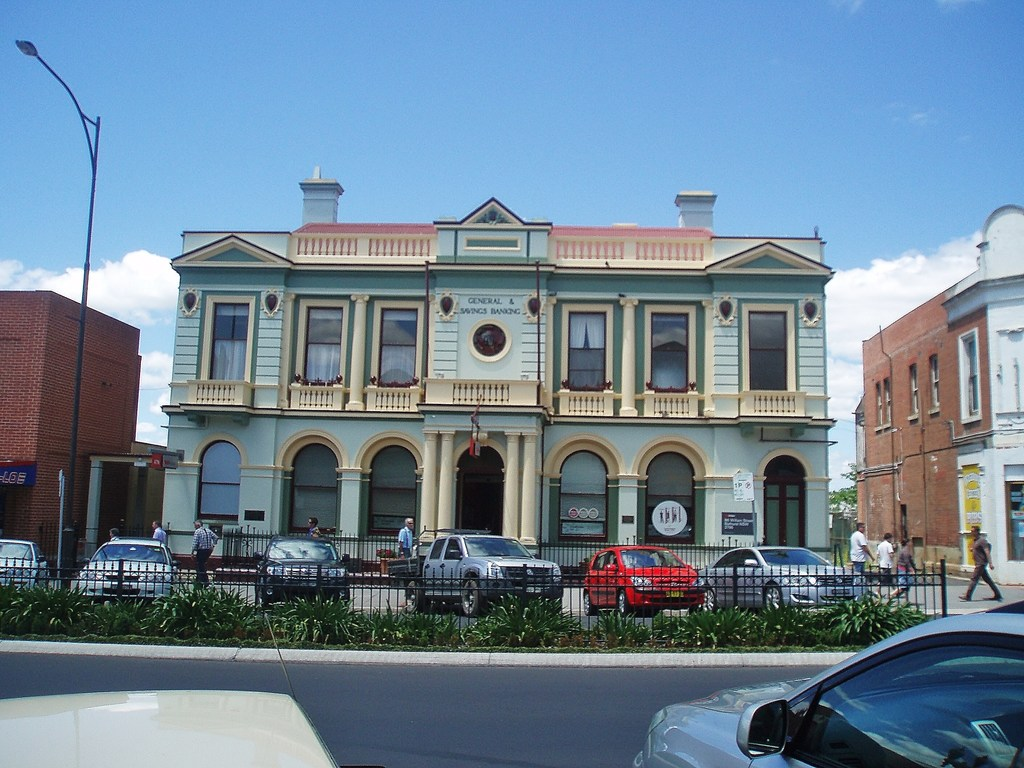Car: (629, 600, 1023, 767), (392, 539, 574, 625), (704, 546, 879, 619), (580, 549, 707, 616), (248, 530, 350, 607), (83, 535, 177, 602), (0, 536, 57, 581)
